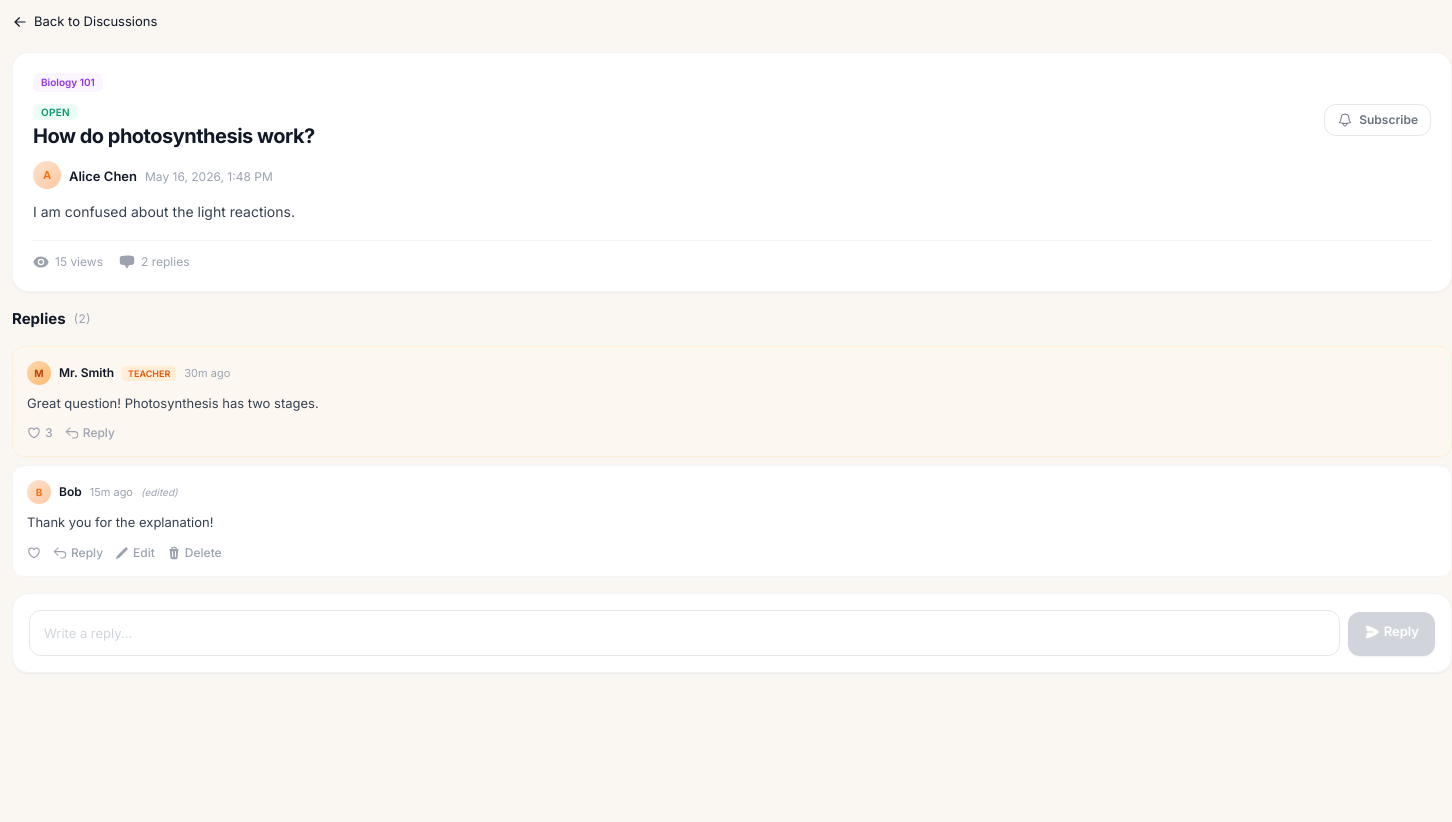
Scenario: StudentDiscussionThreadPage › shows "Replying to {name}" banner when a Reply button on a reply is clicked
This screenshot has width=1452, height=822.
Expected: the text "Mr. Smith" is shown, x1=59 y1=364 x2=114 y2=382
Step 1. Click the submit button → (90, 433), box x1=65 y1=424 x2=115 y2=442
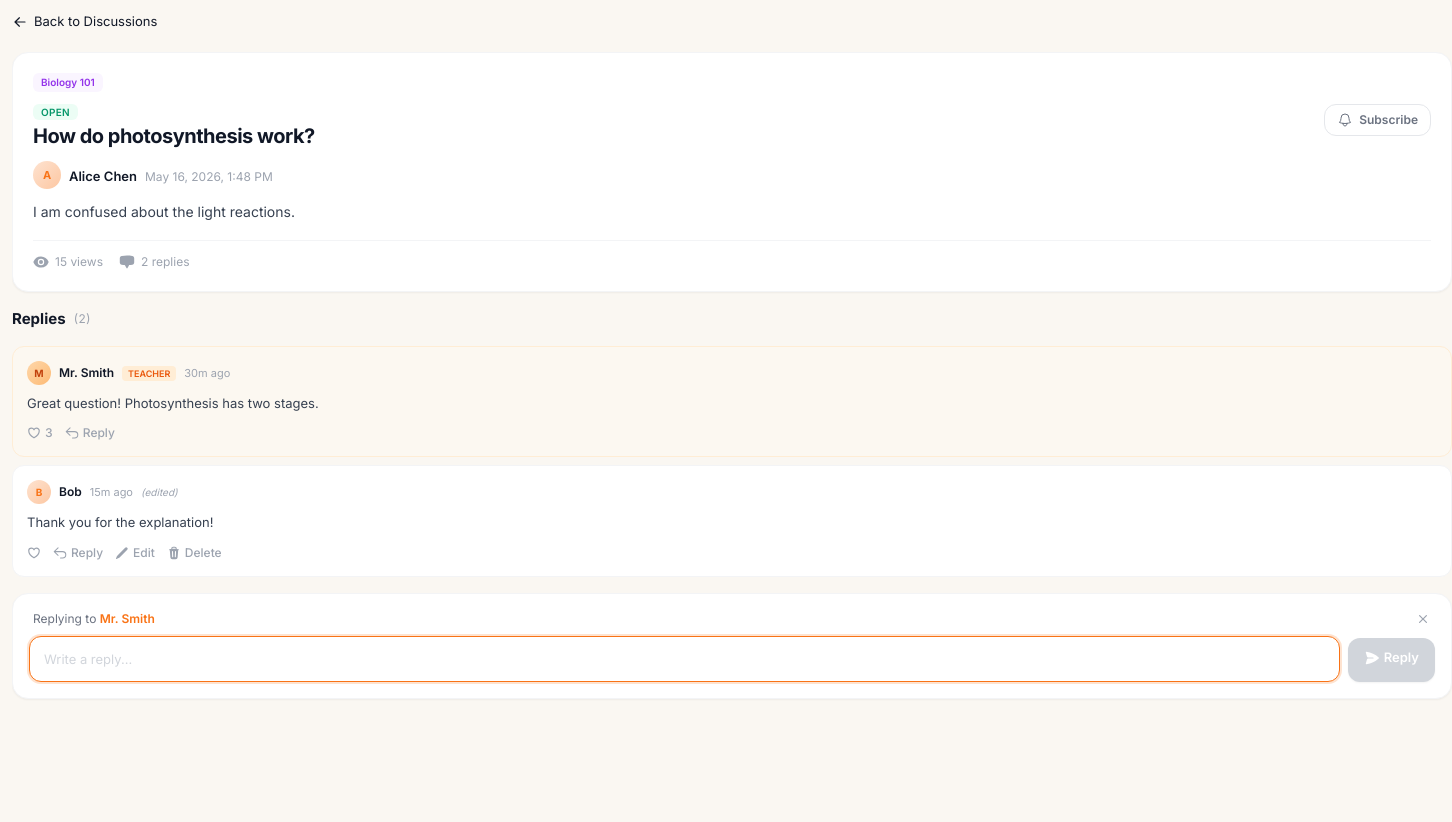
Result: the text "Replying to Mr. Smith" is shown at x1=33 y1=610 x2=155 y2=628
